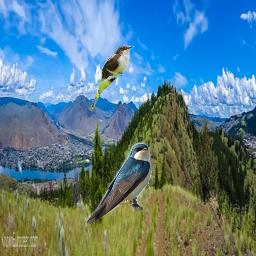Cuckoo: (89, 45, 134, 111)
Swallow: (83, 140, 154, 226)
